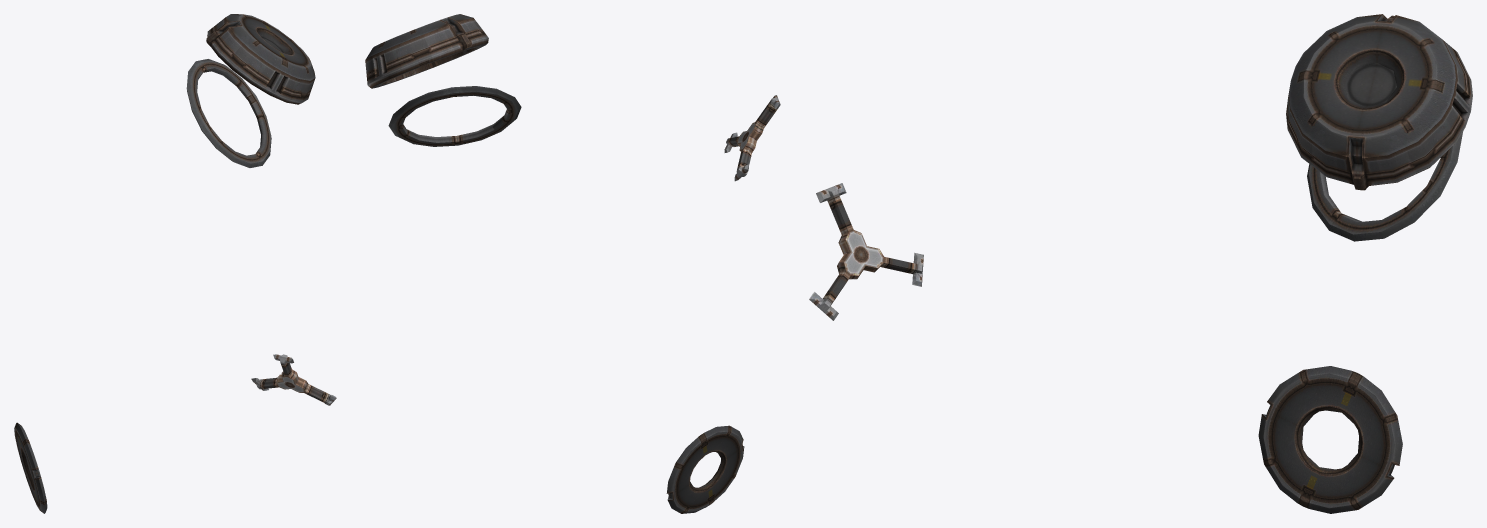
File: prop_static_yao_container_02_07.glb
The picture shows the model from 3 angles, left to right: view 1: azimuth 30°, elevation 25°; view 2: azimuth 150°, elevation 25°; view 3: azimuth 270°, elevation 25°; orthographic projection. The views are drawn at different scales.
Visible parts, largest first — view 1: prop_static_yao_container_02_07; view 2: prop_static_yao_container_02_07; view 3: prop_static_yao_container_02_07.
Part boxes in pixels (box(x1,y1,x2,y2)): prop_static_yao_container_02_07: box(14, 14, 336, 513); prop_static_yao_container_02_07: box(365, 14, 780, 513); prop_static_yao_container_02_07: box(809, 14, 1472, 513).
Bounding box in the file's own units: 2.38 × 3.09 × 2.82.
1 material, 1 textured.
